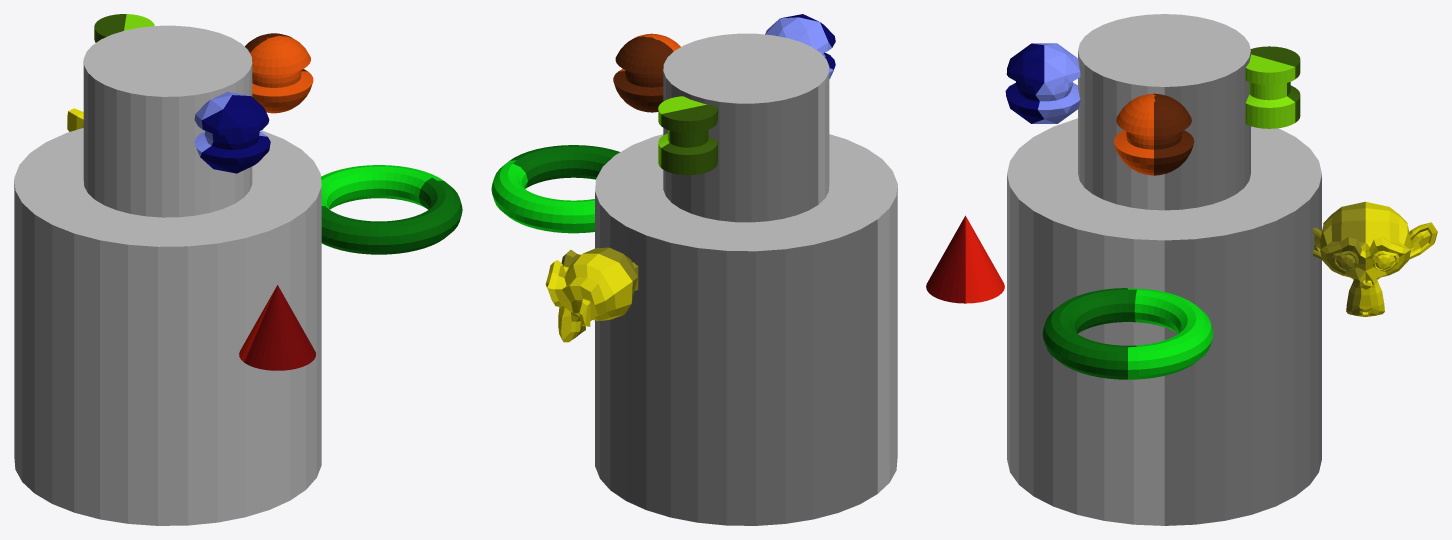
The picture shows the model from 3 angles, left to right: view 1: azimuth 30°, elevation 25°; view 2: azimuth 150°, elevation 25°; view 3: azimuth 270°, elevation 25°; orthographic projection. The views are drawn at different scales.
Parts seen in each view (by area): view 1: default1, default2, 02conus, 10bolvanka, 12Icosphere, 01cilinder, 11motul; view 2: default1, default2, 02conus, 00monkey, 11motul, 12Icosphere, 10bolvanka; view 3: default1, default2, 02conus, 00monkey, 12Icosphere, 10bolvanka, 11motul, 01cilinder.
Boxes of the visible parts, x1,y1,x2,y2 form: default1: [14, 128, 321, 525]; default2: [83, 25, 252, 217]; 02conus: [321, 165, 462, 254]; 10bolvanka: [194, 91, 270, 173]; 12Icosphere: [245, 33, 313, 113]; 01cilinder: [239, 285, 315, 370]; 11motul: [94, 14, 154, 42]; default1: [595, 134, 897, 525]; default2: [663, 33, 829, 222]; 02conus: [491, 145, 619, 233]; 00monkey: [545, 247, 638, 342]; 11motul: [658, 96, 717, 175]; 12Icosphere: [613, 33, 680, 112]; 10bolvanka: [765, 14, 835, 78]; default1: [1007, 118, 1321, 525]; default2: [1078, 14, 1250, 210]; 02conus: [1042, 288, 1213, 379]; 00monkey: [1313, 201, 1437, 316]; 12Icosphere: [1114, 93, 1194, 175]; 10bolvanka: [1005, 43, 1080, 123]; 11motul: [1245, 46, 1300, 128]; 01cilinder: [926, 215, 1004, 303].
Bounding box in the file's own units: 2.99 × 2.92 × 3.25.
